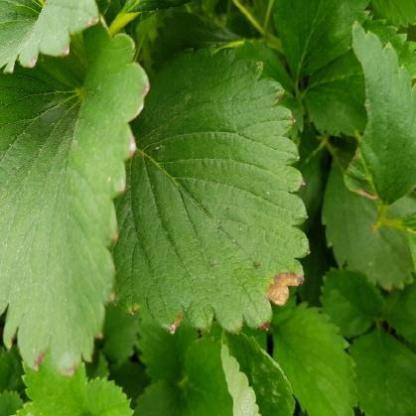Strawberry_Powdery_Mildew_Leaf: (219, 329, 298, 415)
